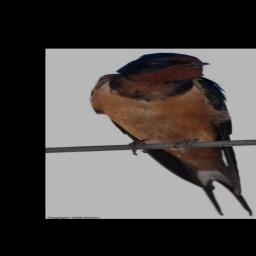Swallow: (88, 52, 255, 217)
